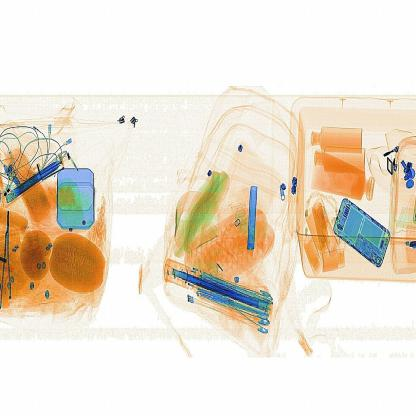pliers: (246, 182, 260, 256)
